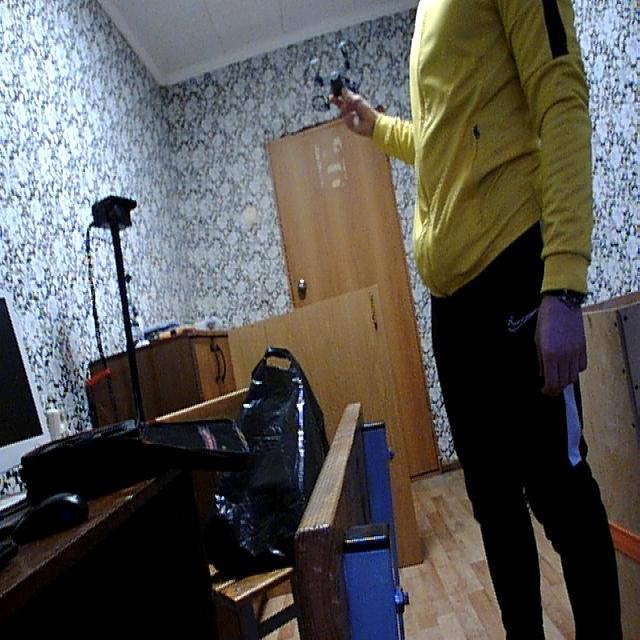drone: (298, 30, 374, 122)
